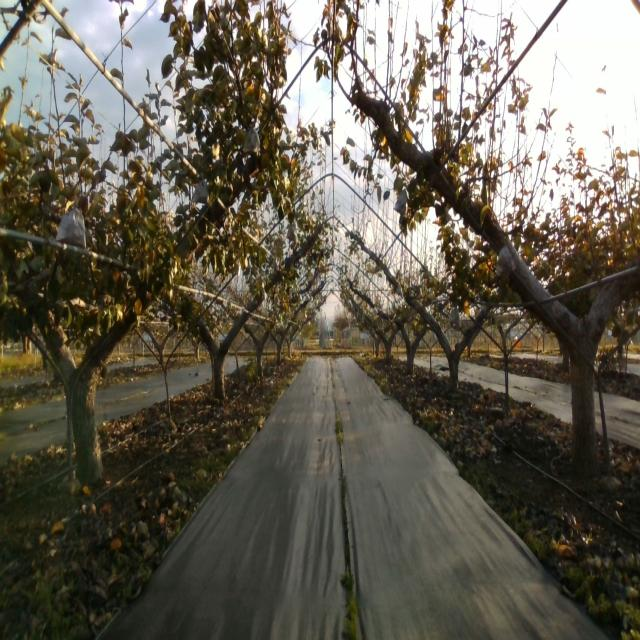pearbags: (55, 200, 87, 251), (494, 246, 512, 281), (243, 123, 261, 157), (193, 176, 210, 207), (394, 189, 408, 218), (286, 220, 298, 244), (448, 307, 460, 331)
